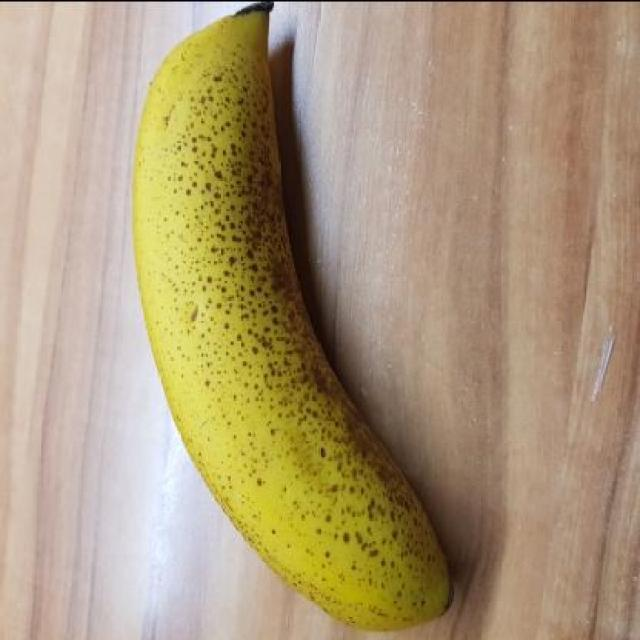banana: (134, 0, 452, 625)
